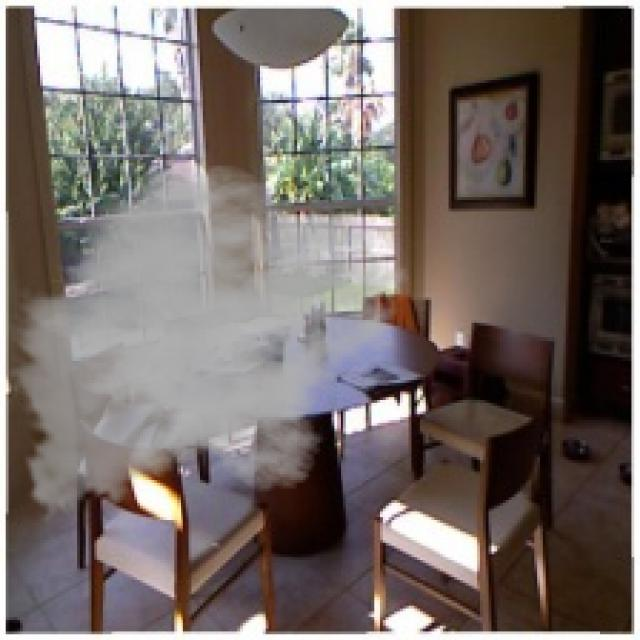smoke: (3, 163, 411, 528)
